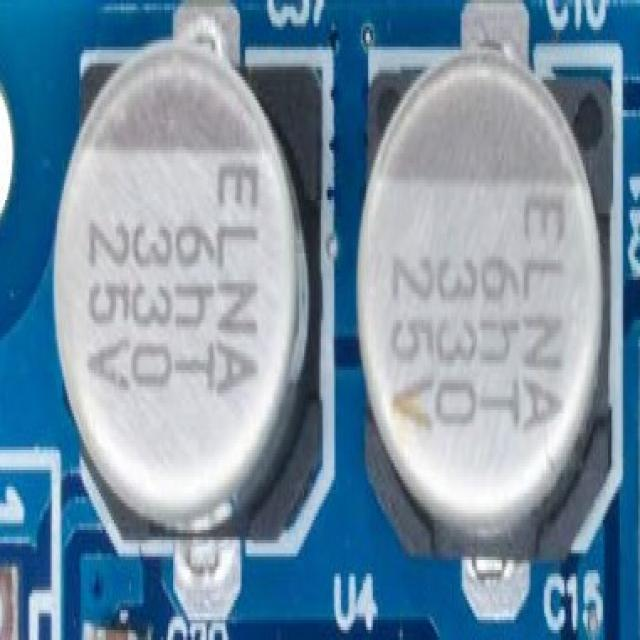capacitor 1V5: (47, 42, 322, 574), (361, 54, 619, 546)
